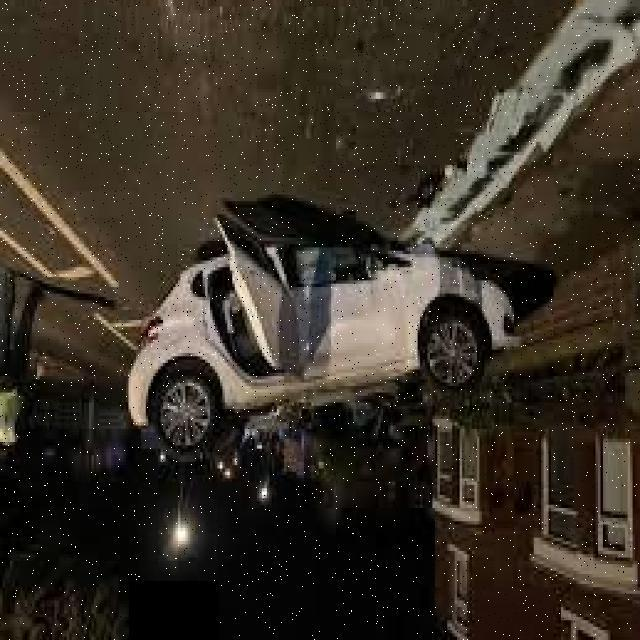severe: (122, 221, 525, 462)
